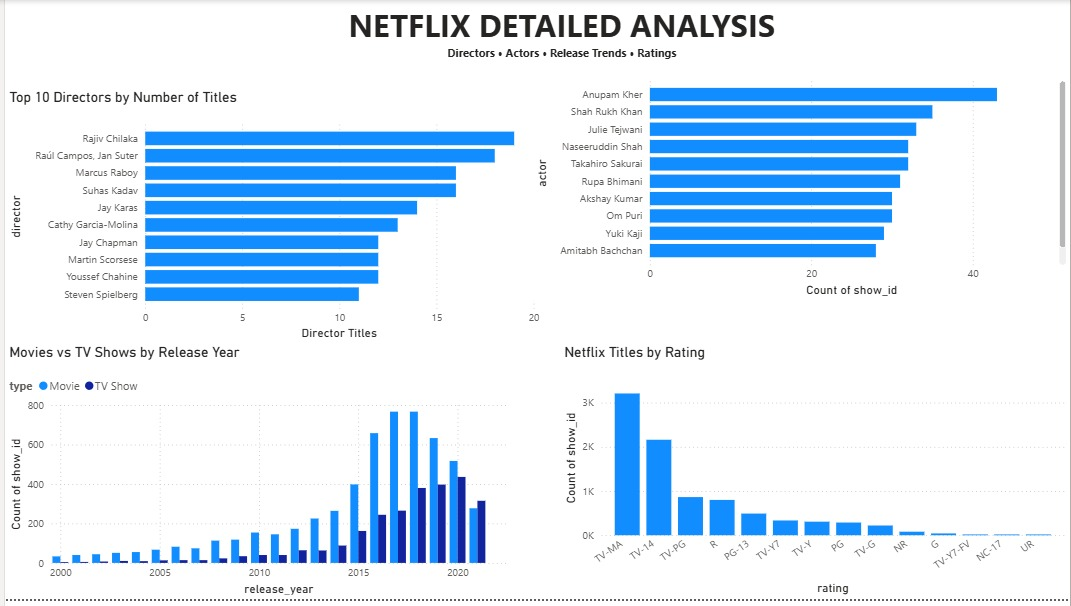

This screenshot's page, from the dashboard's own definition file:
{"tool":"powerbi","page":{"name":"Detailed Analysis","canvas":[1280,720],"ordinal":1},"visuals":[{"type":"clusteredBarChart","title":"Top 10 Directors by Number of Titles","fields":{"Category":["netflix_db netflix.director"],"Y":["netflix_db netflix.Director Titles"]},"box":[0,106.7,647.7,306.6],"z":0},{"type":"clusteredBarChart","title":"Top 10 Actors by Netflix Titles","fields":{"Category":["netflix_db netflix_cast.actor"],"Y":["CountNonNull(netflix_db netflix_cast.show_id)"]},"box":[632.6,54.1,648,307],"z":1},{"type":"lineClusteredColumnComboChart","title":"Movies vs TV Shows by Release Year","fields":{"Category":["netflix_db netflix.release_year"],"Y":["CountNonNull(netflix_db netflix.show_id)"],"Series":["netflix_db netflix.type"]},"box":[0,413.2,611,307],"z":2},{"type":"clusteredColumnChart","title":"Netflix Titles by Rating","fields":{"Category":["netflix_db netflix.rating"],"Y":["CountNonNull(netflix_db netflix.show_id)"]},"box":[667.2,413.2,611,307],"z":3},{"type":"textbox","box":[392.2,0,554.5,85.7],"z":4}]}

Visuals, with their boxes in screenshot pixels (x1, y1, x2, y2), scaled from the page's 1280x720 canvas onto the 1071x606 screenshot:
"Top 10 Directors by Number of Titles" clusteredBarChart: [x1=0, y1=90, x2=542, y2=348]
"Top 10 Actors by Netflix Titles" clusteredBarChart: [x1=529, y1=46, x2=1070, y2=304]
"Movies vs TV Shows by Release Year" lineClusteredColumnComboChart: [x1=0, y1=348, x2=511, y2=605]
"Netflix Titles by Rating" clusteredColumnChart: [x1=558, y1=348, x2=1069, y2=605]
textbox: [x1=328, y1=0, x2=792, y2=72]
